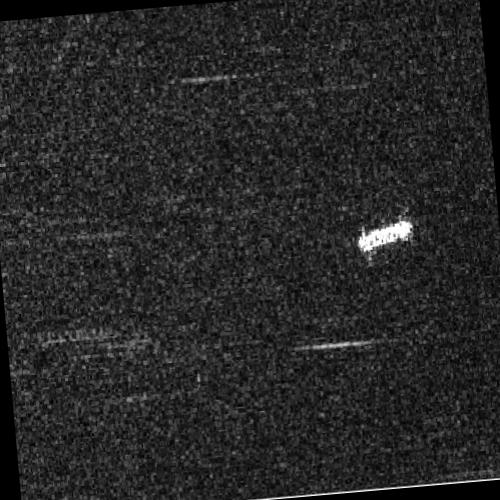ship: (357, 218, 414, 254)
